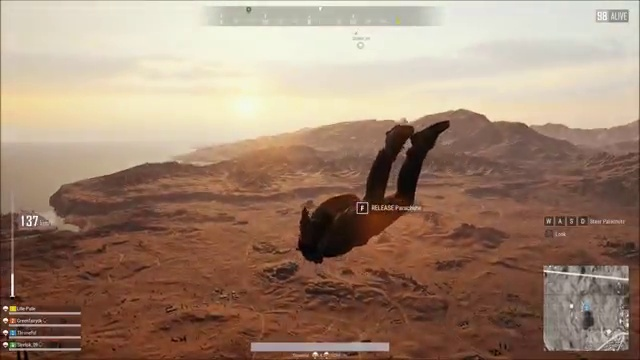Player: (252, 104, 468, 281)
